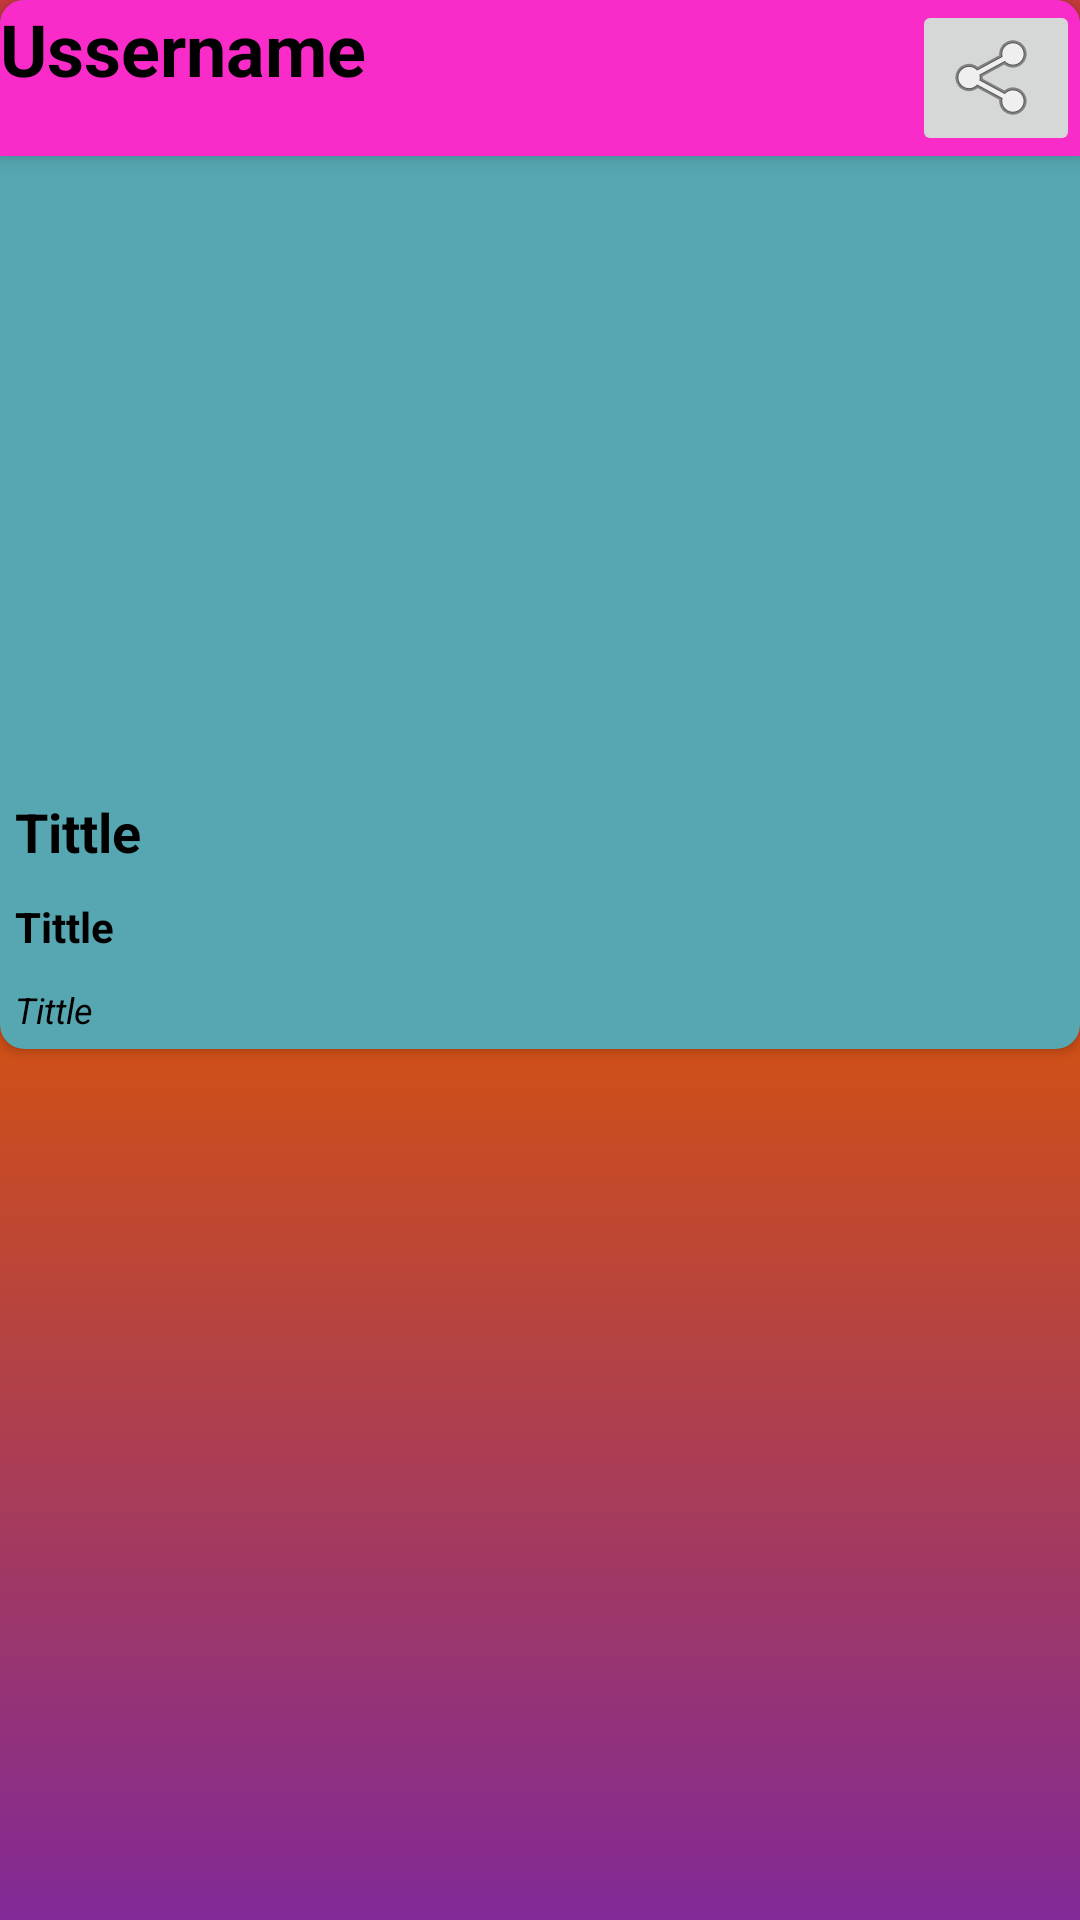

Named icons in this screenshot (1080*1920) and their bounding boxes, (x1, y1, x2, y2):
share: (924, 0, 1080, 138)
